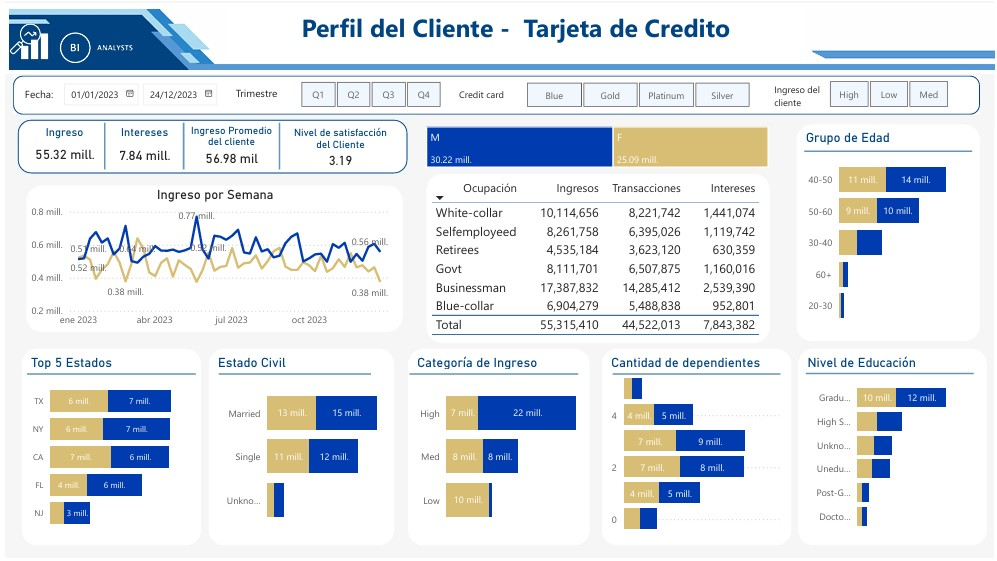

The page's visual inventory and layout, read from the dashboard file:
{"tool":"powerbi","page":{"name":"Perfil cliente","canvas":[1280,720],"ordinal":1},"visuals":[{"type":"shape","box":[9.9,95.8,1250.7,50.7],"z":0},{"type":"shape","box":[15.5,152.1,505.6,70.4],"z":1000},{"type":"barChart","title":"Top 5 Estados","fields":{"Category":["dim_client.state_cd"],"Y":["fact_credit_card_usage.Revenue"],"Series":["dim_client.Gender"]},"box":[21.1,448.7,231.6,253.9],"z":2000},{"type":"lineChart","title":"Ingreso por Semana","fields":{"Category":["dim_date.Week_Start_Date.Variación.Jerarquía de fechas.Año","dim_date.Week_Start_Date.Variación.Jerarquía de fechas.Mes","dim_date.Week_Start_Date.Variación.Jerarquía de fechas.Día"],"Y":["fact_credit_card_usage.Revenue"],"Series":["dim_client.Gender"]},"box":[26.8,238,487.3,188.7],"z":3000},{"type":"card","title":"Ingreso","fields":{"Values":["fact_credit_card_usage.Revenue"]},"box":[26.8,160.6,98.7,53.8],"z":4000},{"type":"card","title":"Ingreso Promedio del cliente","fields":{"Values":["Avg(dim_client.Income)"]},"box":[238.3,159.3,109,55.1],"z":5000},{"type":"treemap","fields":{"Group":["dim_client.Gender"],"Values":["fact_credit_card_usage.Revenue"]},"box":[545,162,442,52],"z":6000},{"type":"card","title":"Nivel de satisfacción del Cliente","fields":{"Values":["Avg(dim_client.Cust_Satisfaction_Score)"]},"box":[372.1,162.3,123,52.5],"z":7000},{"type":"slicer","fields":{"Values":["dim_card.Card_Category"]},"box":[653.5,102.8,328.2,35.2],"z":9000},{"type":"slicer","fields":{"Values":["dim_client.IncomeGroup"]},"box":[1046.5,101.4,193,36.6],"z":10000},{"type":"image","box":[0,0,1308,90.8],"z":11000},{"type":"textbox","box":[19.7,105.6,64.8,31],"z":12000},{"type":"textbox","box":[989.9,98.6,92.8,44.9],"z":13000},{"type":"textbox","box":[293.4,104.4,79.1,30.8],"z":14000},{"type":"textbox","box":[581.7,105.6,90.1,32.4],"z":15000},{"type":"slicer","fields":{"Values":["dim_date.Quarter"]},"box":[362.3,101.6,219.7,36.1],"z":16000},{"type":"textbox","box":[285.1,6,750.7,67.2],"z":17000},{"type":"card","title":"Intereses","fields":{"Values":["Sum(fact_credit_card_usage.Interest_Earned)"]},"box":[129.9,160.8,100,55.6],"z":18000},{"type":"shape","box":[28.2,474,218.3,15.5],"z":19000},{"type":"image","box":[0,19.7,61.4,62.2],"z":20000},{"type":"shape","box":[335.3,156.5,39.1,60.9],"z":21000},{"type":"shape","box":[210.6,156.5,39.1,60.9],"z":22000},{"type":"shape","box":[109.2,156.5,39.1,60.9],"z":23000},{"type":"image","box":[34.6,27.6,194.5,65.4],"z":24000},{"type":"barChart","title":"Estado Civil","fields":{"Category":["dim_client.Marital_Status"],"Y":["fact_credit_card_usage.Revenue"],"Series":["dim_client.Gender"]},"box":[263.2,448.7,239.5,253.9],"z":25000},{"type":"shape","box":[276.1,473.3,197.2,16.9],"z":26000},{"type":"barChart","title":"Categoría de Ingreso","fields":{"Y":["fact_credit_card_usage.Revenue"],"Series":["dim_client.Gender"],"Category":["dim_client.IncomeGroup"]},"box":[521.1,449.3,235.2,253.5],"z":27000},{"type":"shape","box":[522.5,473.3,218.3,16.9],"z":28000},{"type":"barChart","title":"Cantidad de dependientes","fields":{"Category":["dim_client.Dependent_Count"],"Y":["fact_credit_card_usage.Revenue"],"Series":["dim_client.Gender"]},"box":[771.8,449.3,245.1,253.5],"z":29000},{"type":"barChart","title":"Nivel de Educación","fields":{"Category":["dim_client.Education_Level"],"Y":["fact_credit_card_usage.Revenue"],"Series":["dim_client.Gender"]},"box":[1026.3,448.7,243.4,253.9],"z":30000},{"type":"shape","box":[1035.8,474.7,216.8,12.6],"z":31000},{"type":"shape","box":[785.5,475.1,217.1,13.2],"z":32000},{"type":"tableEx","fields":{"Values":["dim_client.Customer_Job","fact_credit_card_usage.Revenue","Sum(fact_credit_card_usage.Total_Trans_Amt)","Sum(fact_credit_card_usage.Interest_Earned)"]},"box":[545.1,222.5,443.7,218.3],"z":33000},{"type":"barChart","title":"Grupo de Edad","fields":{"Y":["fact_credit_card_usage.Revenue"],"Category":["dim_client.AgeGroup"],"Series":["dim_client.Gender"]},"box":[1023.9,159.2,236.6,280.3],"z":34000},{"type":"slicer","fields":{"Values":["dim_date.Week_Start_Date"]},"box":[67.6,101.4,225.4,36.6],"z":35000},{"type":"shape","box":[1033.7,187.4,216.8,12.6],"z":36000}]}

Visuals, with their boxes in screenshot pixels (x1, y1, x2, y2), scaled from the page's 1280x720 canvas onto the 997x561 screenshot:
shape: rect(8, 75, 982, 114)
shape: rect(12, 119, 406, 173)
"Top 5 Estados" barChart: rect(16, 350, 197, 547)
"Ingreso por Semana" lineChart: rect(21, 185, 400, 332)
"Ingreso" card: rect(21, 125, 98, 167)
"Ingreso Promedio del cliente" card: rect(186, 124, 271, 167)
treemap - dim_client.Gender x fact_credit_card_usage.Revenue: rect(425, 126, 769, 167)
"Nivel de satisfacción del Cliente" card: rect(290, 126, 386, 167)
slicer - dim_card.Card_Category: rect(509, 80, 765, 108)
slicer - dim_client.IncomeGroup: rect(815, 79, 965, 108)
image: rect(0, 0, 996, 71)
textbox: rect(15, 82, 66, 106)
textbox: rect(771, 77, 843, 112)
textbox: rect(229, 81, 290, 105)
textbox: rect(453, 82, 523, 108)
slicer - dim_date.Quarter: rect(282, 79, 453, 107)
textbox: rect(222, 5, 807, 57)
"Intereses" card: rect(101, 125, 179, 169)
shape: rect(22, 369, 192, 381)
image: rect(0, 15, 48, 64)
shape: rect(261, 122, 292, 169)
shape: rect(164, 122, 194, 169)
shape: rect(85, 122, 116, 169)
image: rect(27, 22, 178, 72)
"Estado Civil" barChart: rect(205, 350, 392, 547)
shape: rect(215, 369, 369, 382)
"Categoría de Ingreso" barChart: rect(406, 350, 589, 548)
shape: rect(407, 369, 577, 382)
"Cantidad de dependientes" barChart: rect(601, 350, 792, 548)
"Nivel de Educación" barChart: rect(799, 350, 989, 547)
shape: rect(807, 370, 976, 380)
shape: rect(612, 370, 781, 380)
tableEx - dim_client.Customer_Job x fact_credit_card_usage.Revenue: rect(425, 173, 770, 343)
"Grupo de Edad" barChart: rect(798, 124, 982, 342)
slicer - dim_date.Week_Start_Date: rect(53, 79, 228, 108)
shape: rect(805, 146, 974, 156)
